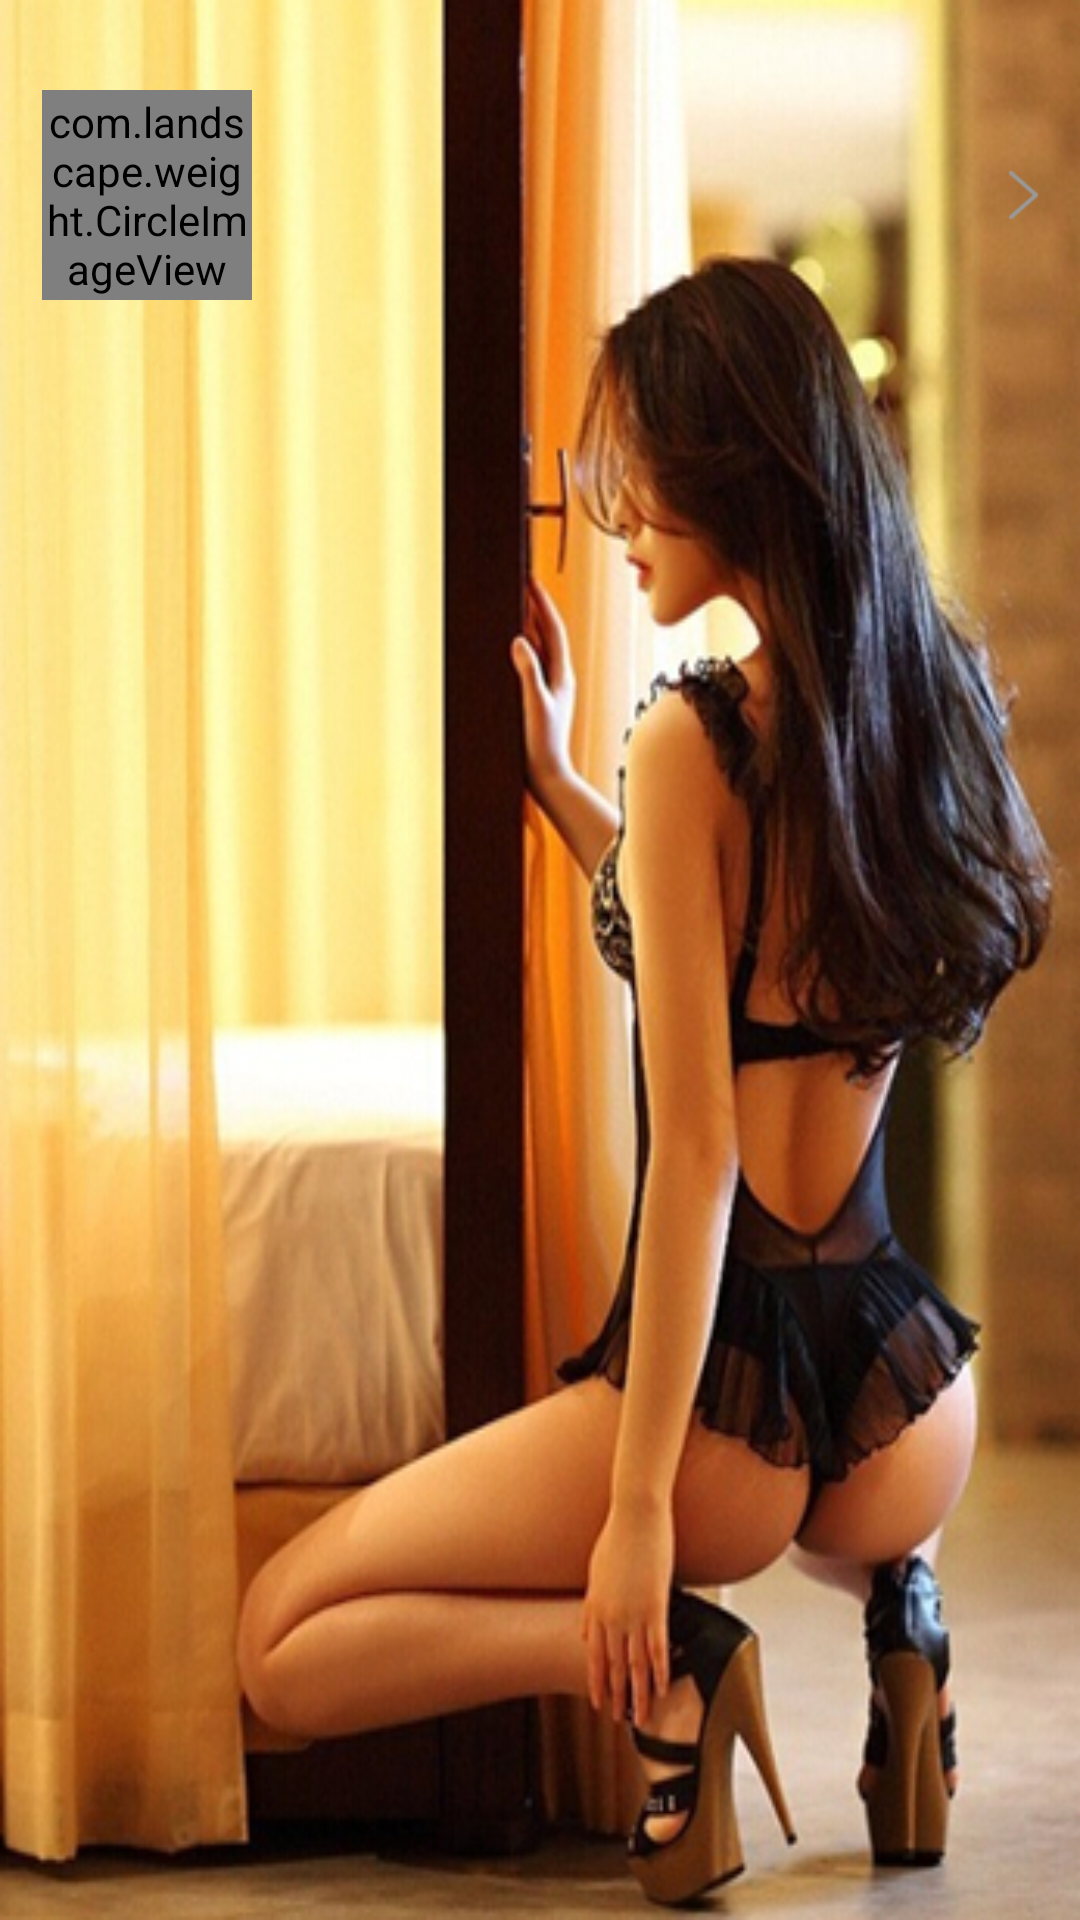

Icon bounding boxes for this 1080x1920 phone screenshot, format (x1, y1, x2, y2):
arrow: (1009, 171, 1038, 219)
